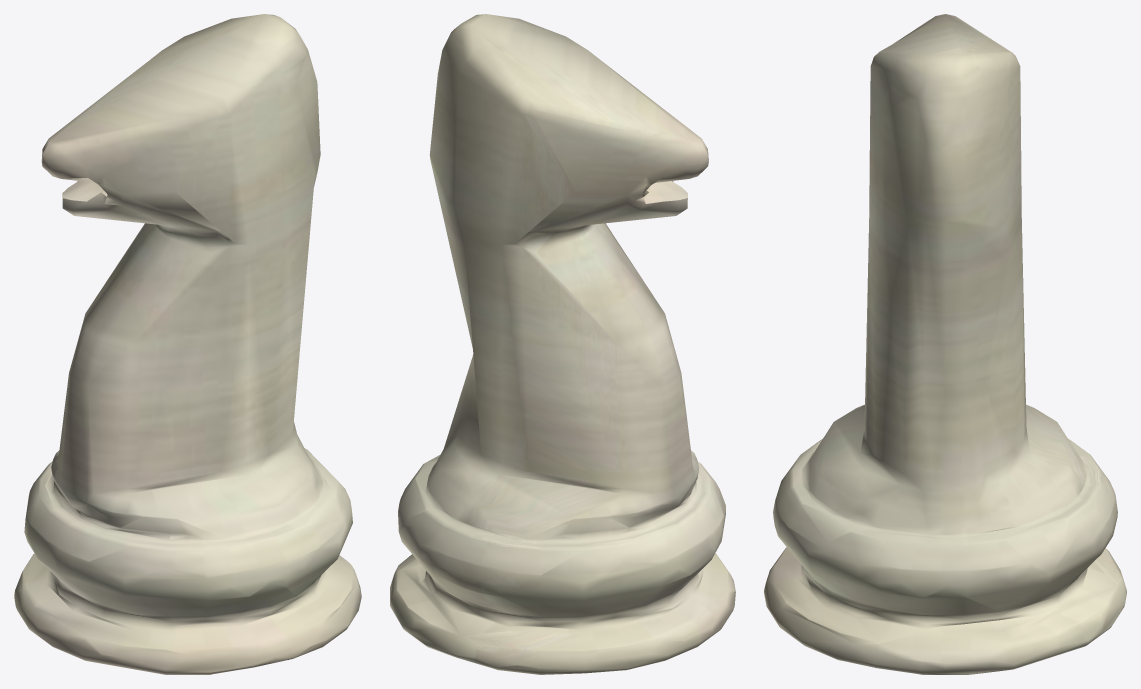
File: Knight.obj
The picture shows the model from 3 angles, left to right: view 1: azimuth 30°, elevation 25°; view 2: azimuth 150°, elevation 25°; view 3: azimuth 270°, elevation 25°; orthographic projection. The views are drawn at different scales.
Visible parts, largest first — view 1: mesh01.002; view 2: mesh01.002; view 3: mesh01.002.
Boxes of the visible parts, <box> form: mesh01.002: <box>14,14,361,674</box>; mesh01.002: <box>390,14,735,674</box>; mesh01.002: <box>764,14,1126,674</box>.
Size of the model in its own units: 11.27 by 20.23 by 11.27.
1 material, 1 textured.
